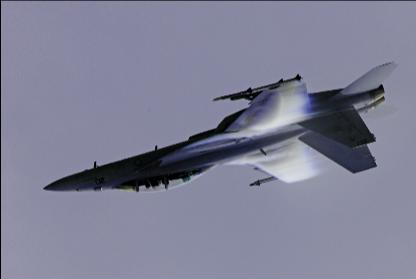F15: (41, 61, 400, 193)
